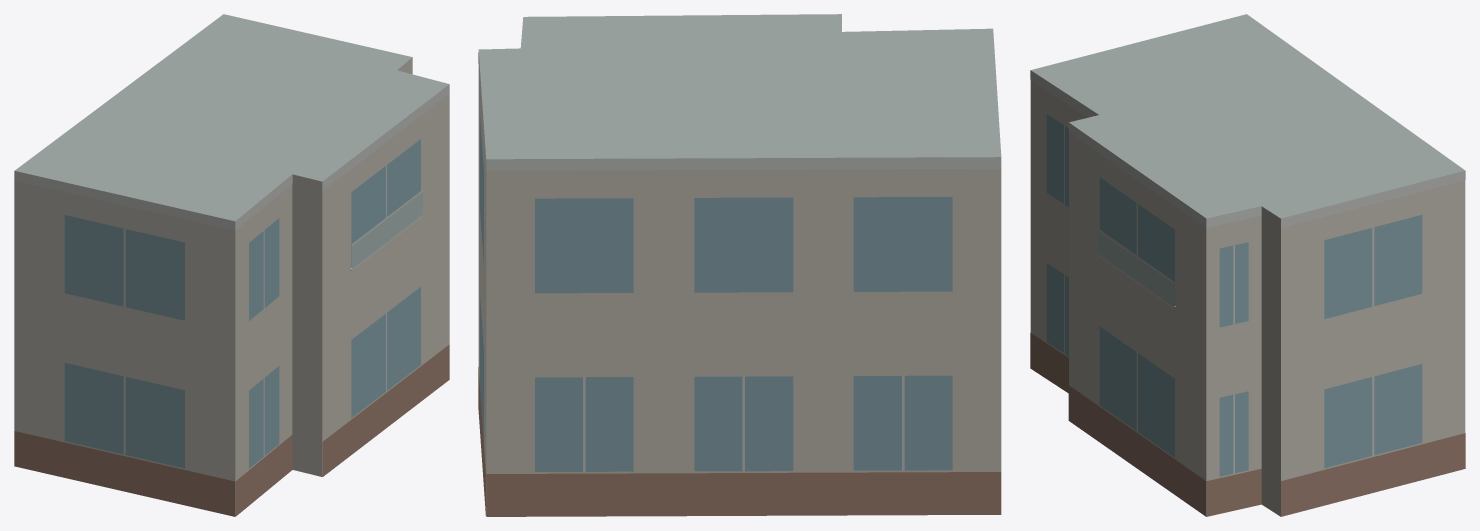
File: survey-upis-32961658.glb
3 views of the same model, side by side, from view 1: azimuth 30°, elevation 25°; view 2: azimuth 150°, elevation 25°; view 3: azimuth 270°, elevation 25° (orthographic). The views are drawn at different scales.
Parts seen in each view (by area): view 1: survey-upis-32961658.tmp; view 2: survey-upis-32961658.tmp; view 3: survey-upis-32961658.tmp.
Part boxes in pixels (bbox=[...]): survey-upis-32961658.tmp: bbox=[14, 14, 449, 516]; survey-upis-32961658.tmp: bbox=[478, 14, 1001, 516]; survey-upis-32961658.tmp: bbox=[1030, 14, 1465, 516].
Bounding box in the file's own units: 11.04 × 7.5 × 9.92.
